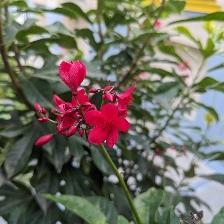jatropha: (83, 104, 131, 149)
